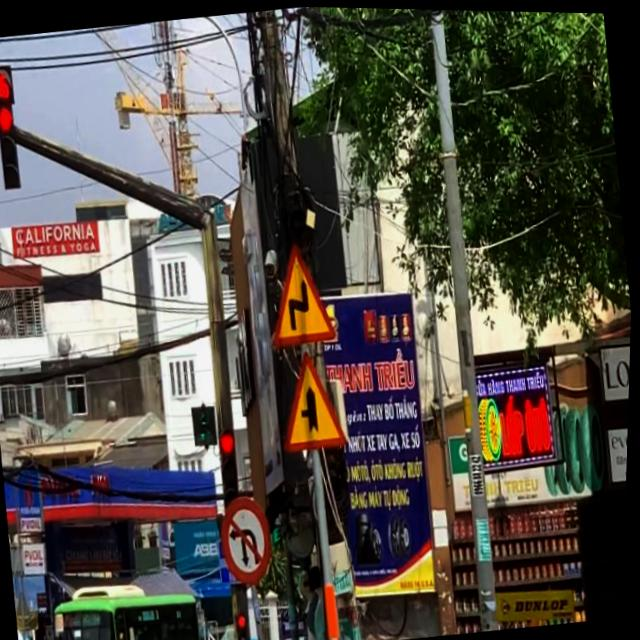Giao nhau voi duong khong uu tien ben trai: (274, 343, 353, 454)
Nhieu cho ngoat lien tiep ben phai: (263, 234, 342, 350)
